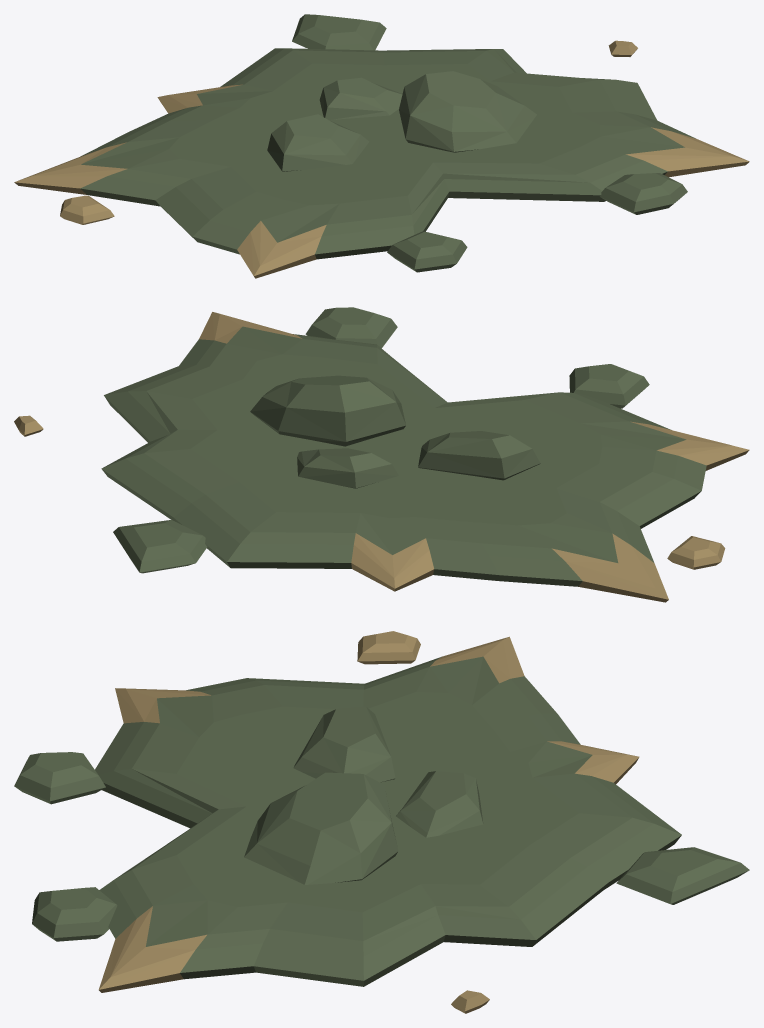
The model's file is moss-patch-3ecaf4.glb.
The picture shows the model from 3 angles, top to bottom: view 1: azimuth 30°, elevation 25°; view 2: azimuth 150°, elevation 25°; view 3: azimuth 270°, elevation 25°; orthographic projection. The views are drawn at different scales.
Parts seen in each view (by area): view 1: moss-crust; view 2: moss-crust; view 3: moss-crust.
Boxes of the visible parts, left/top/right/bottom form: moss-crust: left=14, top=14, right=749, bottom=278; moss-crust: left=14, top=307, right=749, bottom=602; moss-crust: left=14, top=631, right=749, bottom=1013.
Bounding box in the file's own units: 0.7139 × 0.0765 × 0.5933.
